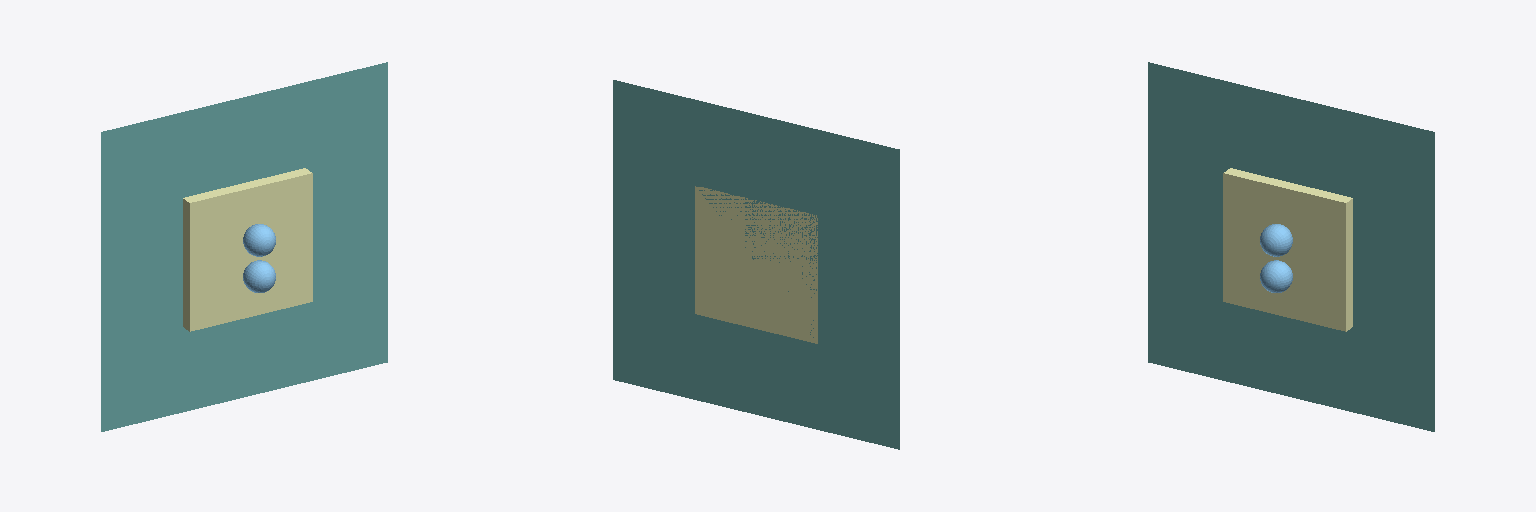
The model's file is dosBolasConPiso.obj.
3 renders of one model, left to right at view 1: azimuth 30°, elevation 25°; view 2: azimuth 150°, elevation 25°; view 3: azimuth 330°, elevation 25°, orthographic.
Visible parts, largest first — view 1: Plane01, Box01, Sphere02, Sphere01; view 2: Plane01, Box01; view 3: Plane01, Box01, Sphere02, Sphere01.
Boxes of the visible parts, <box> form: Plane01: <box>101,62,387,431</box>; Box01: <box>183,168,312,331</box>; Sphere02: <box>243,224,275,256</box>; Sphere01: <box>243,260,275,292</box>; Plane01: <box>613,80,899,449</box>; Box01: <box>695,186,817,343</box>; Plane01: <box>1148,62,1434,431</box>; Box01: <box>1223,168,1352,331</box>; Sphere02: <box>1260,224,1292,256</box>; Sphere01: <box>1260,260,1292,292</box>.
Size of the model in its own units: 140 by 140 by 20.04.